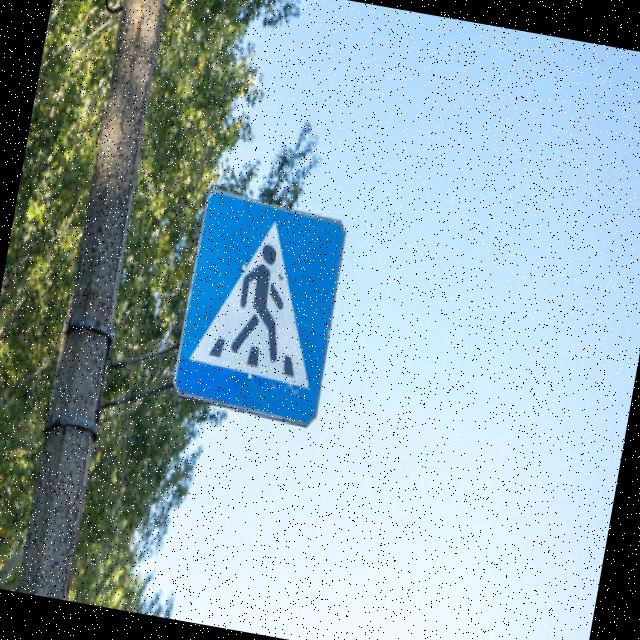crosswalk: (162, 176, 360, 437)
